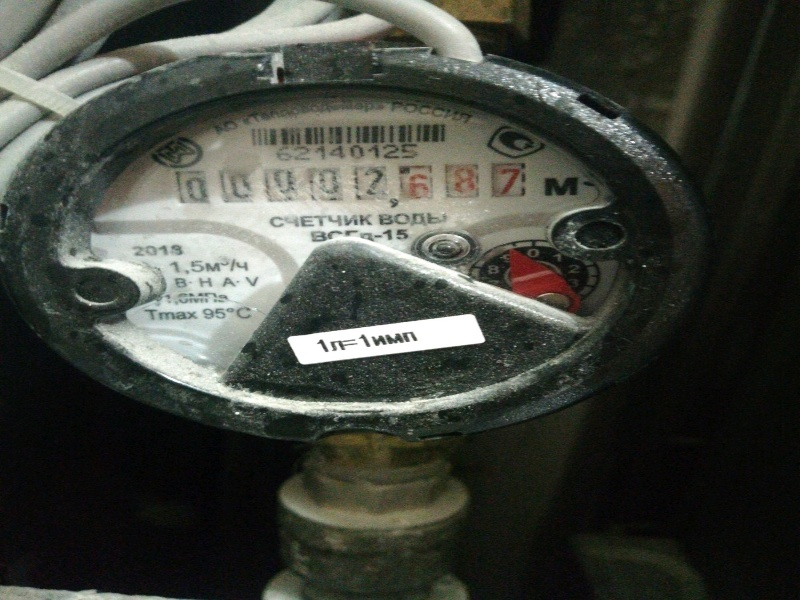meter: (167, 163, 529, 209)
